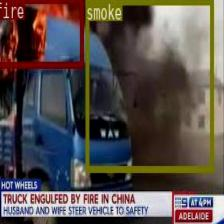fire: (0, 0, 83, 66)
smoke: (85, 0, 213, 171)
